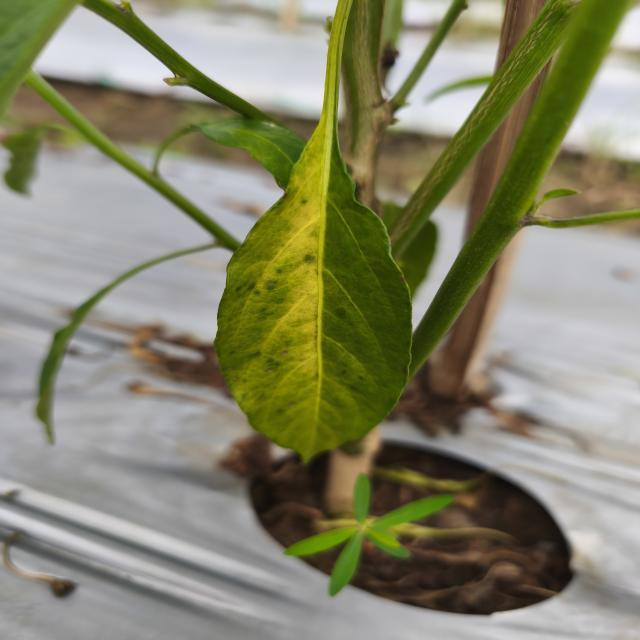Virus Kuning: (210, 117, 414, 464)
